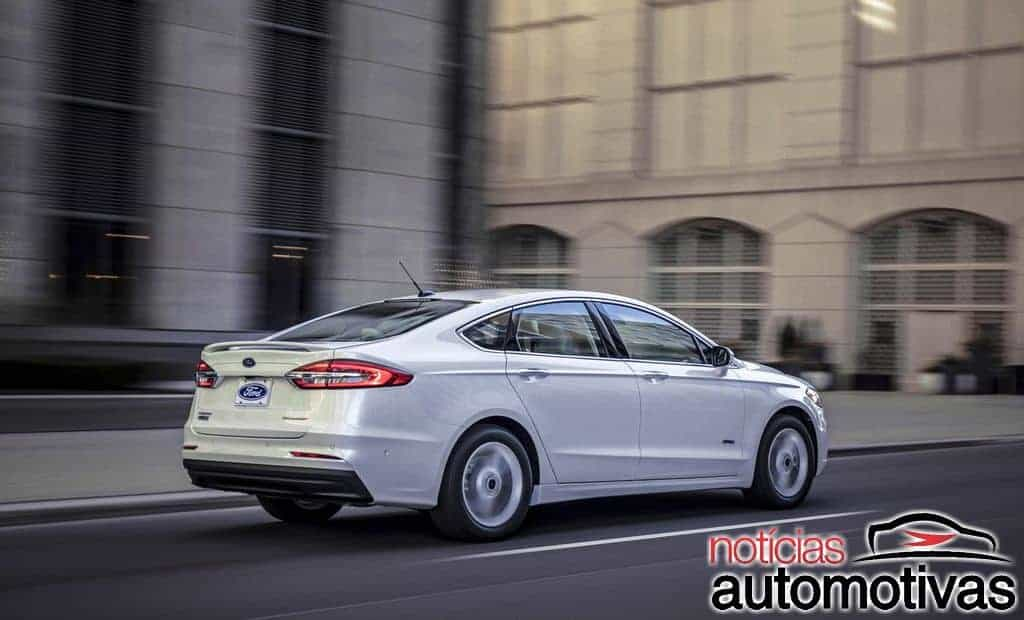Carro: (179, 280, 829, 541)
